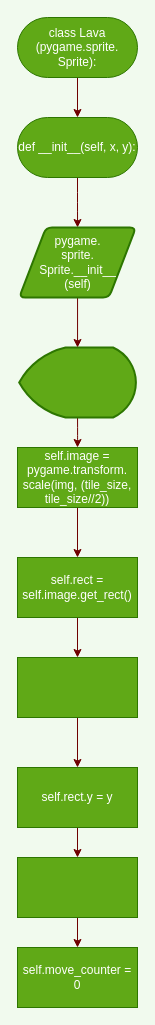
This 155x1025 diagram has some shape labels left out. The centre of each missing label's shape, as x and y in pixels:
"self.image = pygame.image.load ('images/lava.png')" goes at point 77,382.
"self.move_direction = 1" goes at point 77,887.
"self.rect.x = x" goes at point 77,687.
